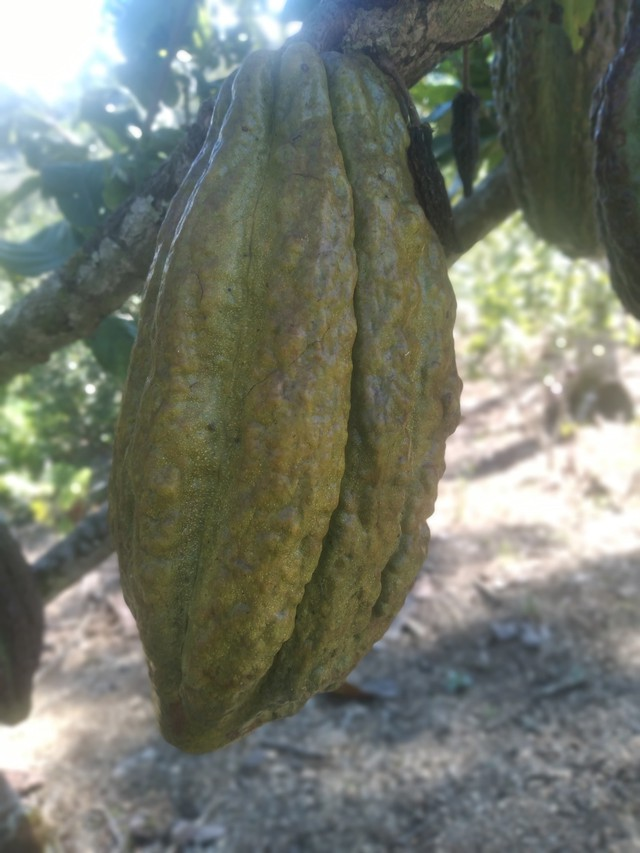Health: (81, 31, 480, 760)
